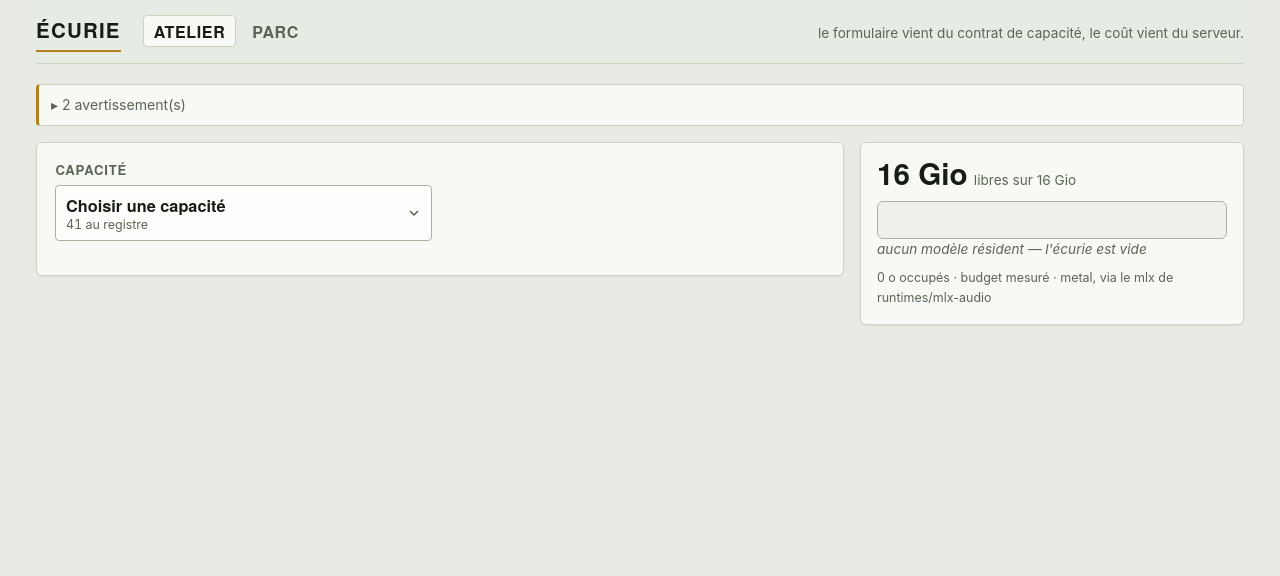
ce que le job a produit › avant le premier job, l_ecran annonce ce que le contrat promet
What coordinates should you click on to do the following:
click the button "Choisir une capacité 41 au registre"
I would click on:
 (146, 205)
Its box is [55, 185, 432, 241].
(page scrolled)
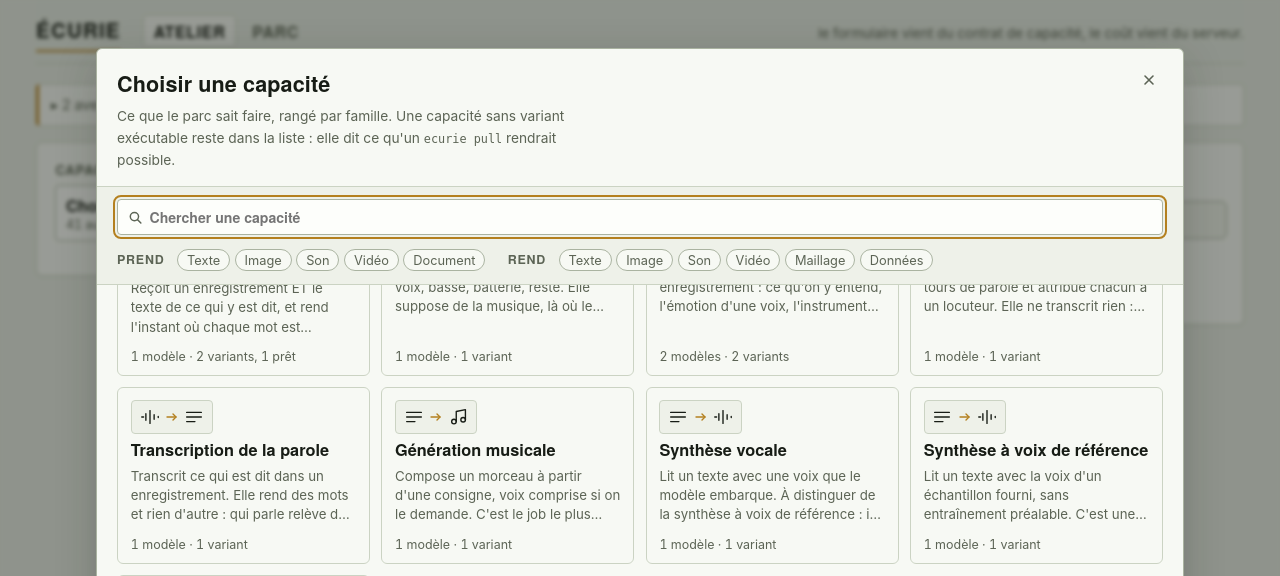
What coordinates should you click on to do the following:
click the button "Synthèse vocale"
I would click on:
 (772, 475)
Its box is [646, 387, 899, 564].
(page scrolled)
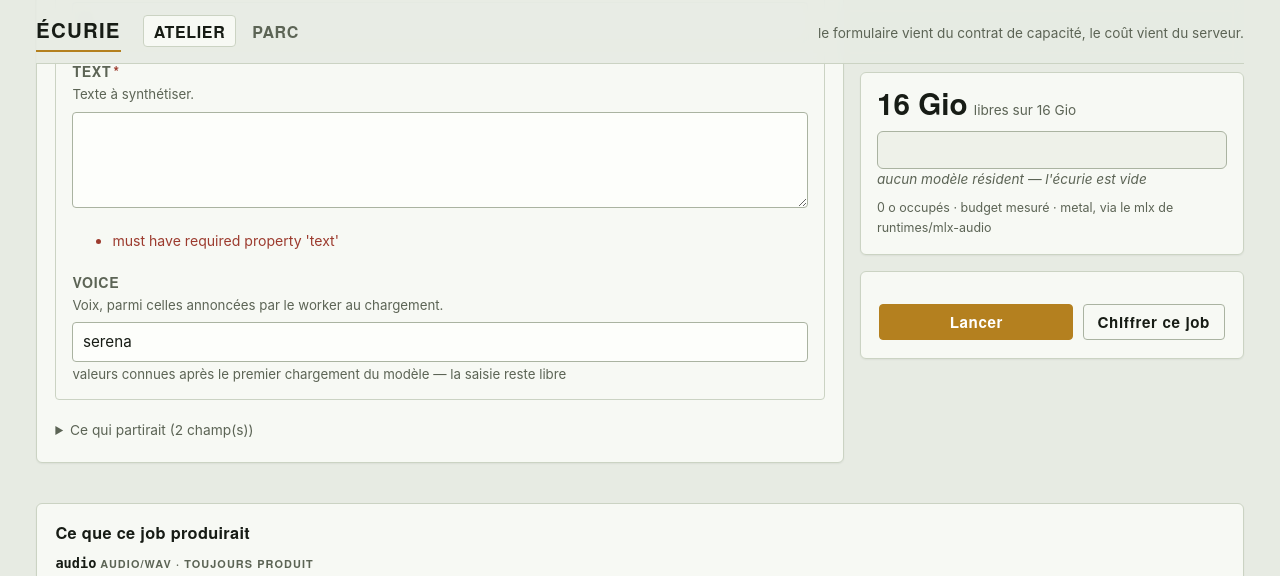
Expected: the heading "Ce que ce job produirait" is shown, [55, 521, 250, 544]
